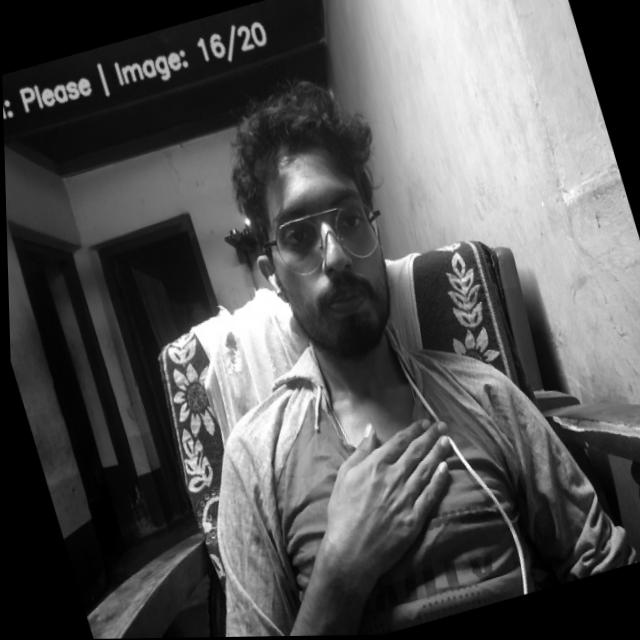Please: (290, 400, 486, 595)
